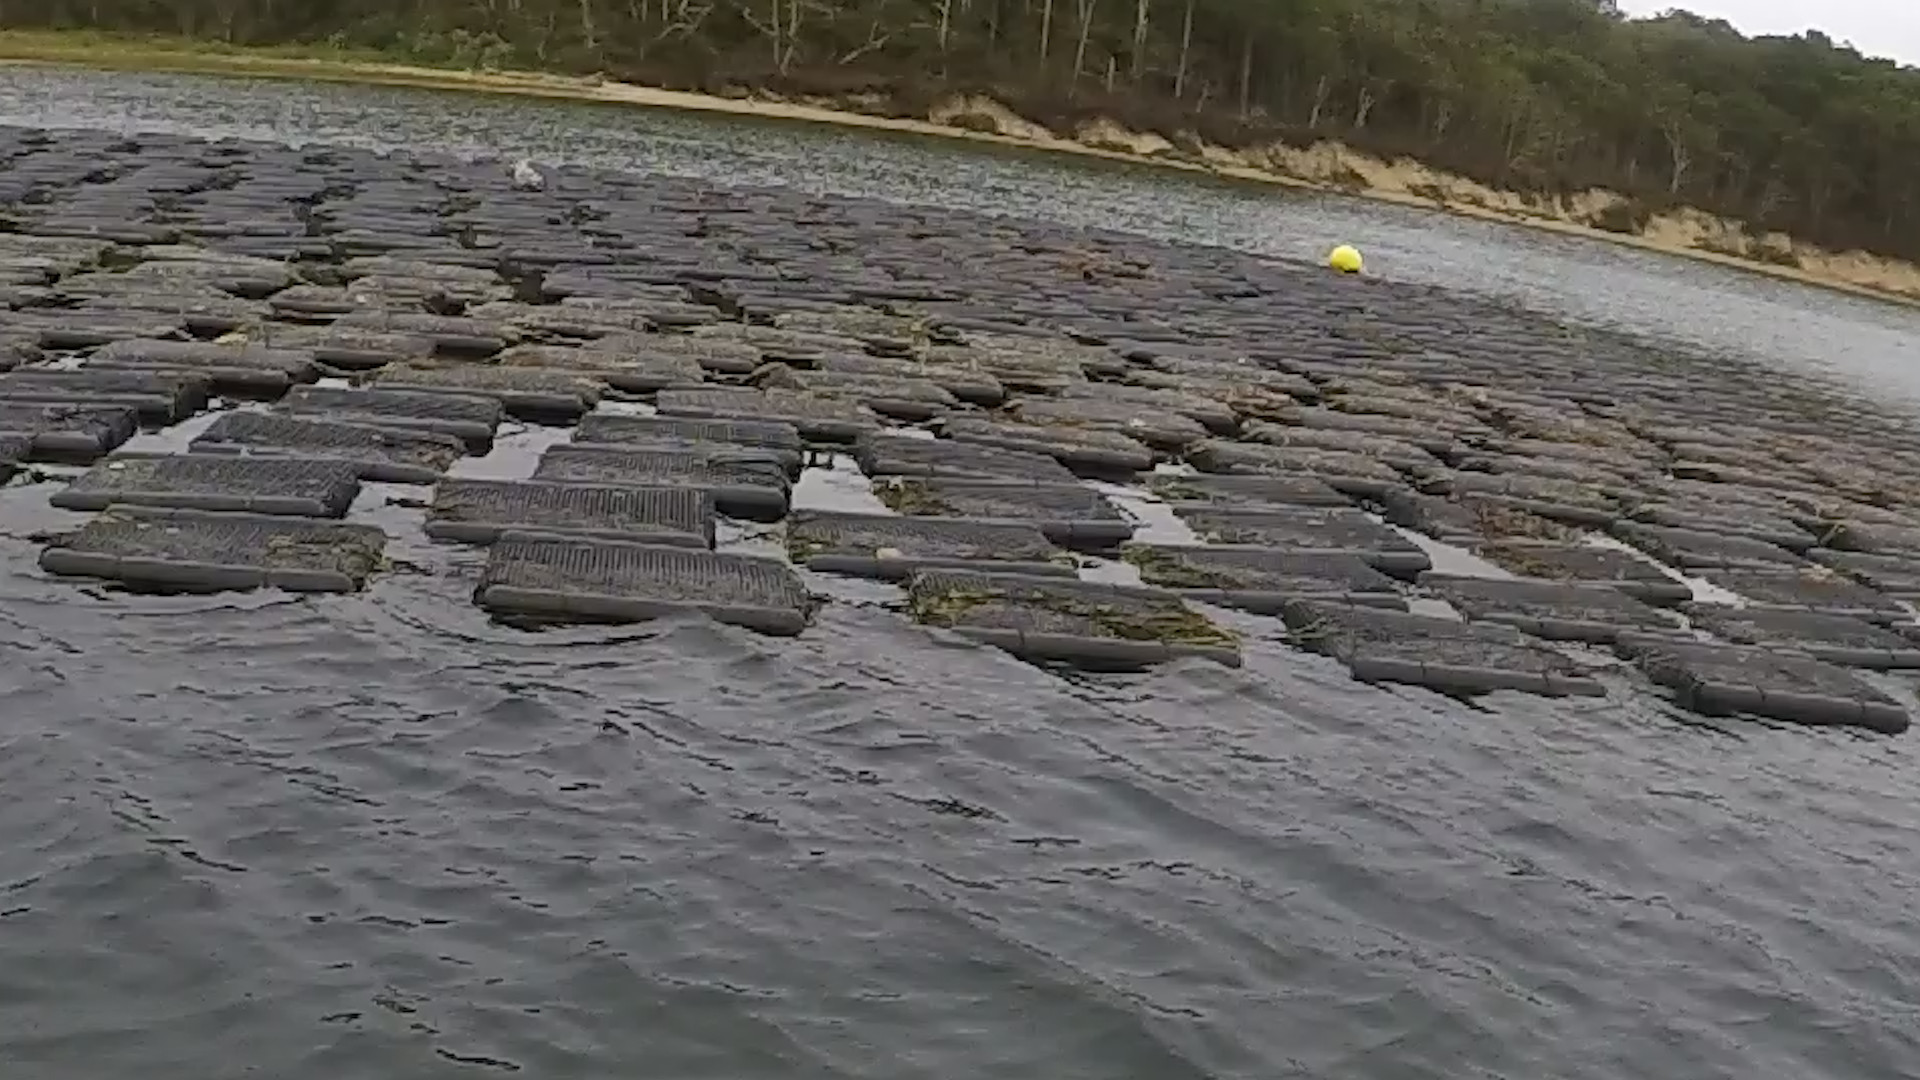bag: (479, 525, 803, 644), (901, 559, 1240, 670)
